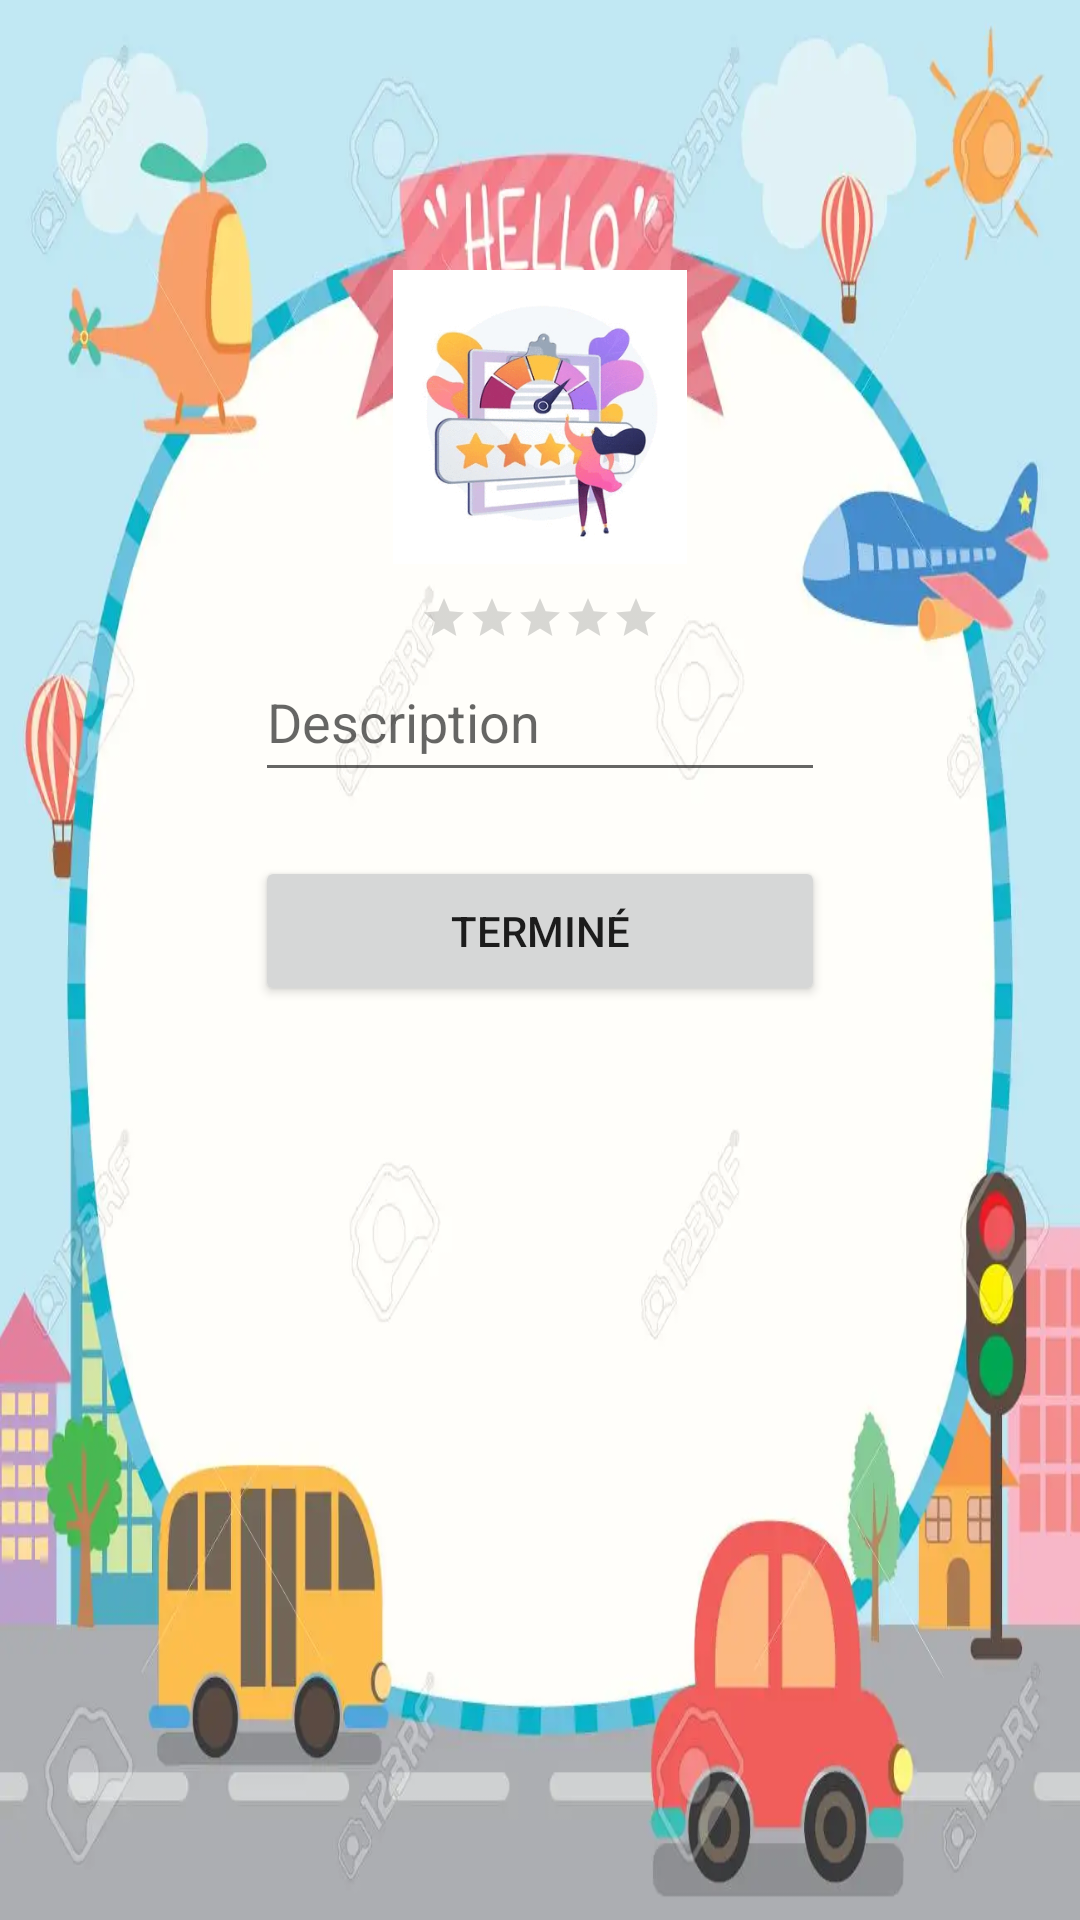

Icon bounding boxes for this 1080x1920 phone screenshot, format (x1=x1, y1=y1, x2=x2, y2=y2):
evaluation: (x1=426, y1=328, x2=646, y2=537)
